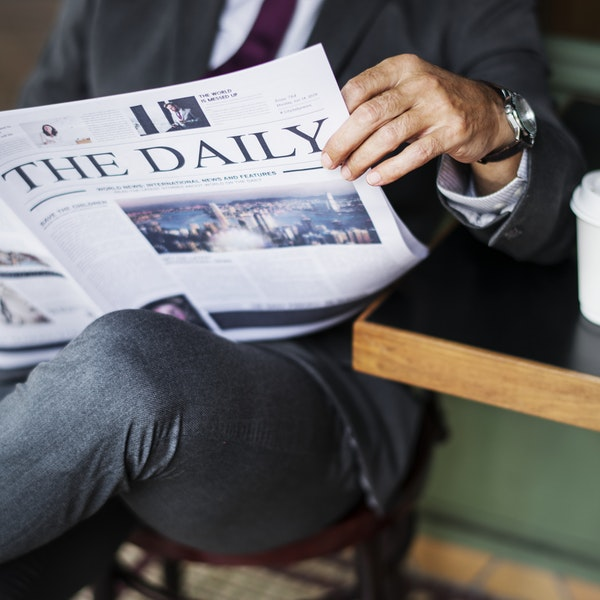news_paper: (1, 30, 455, 435)
